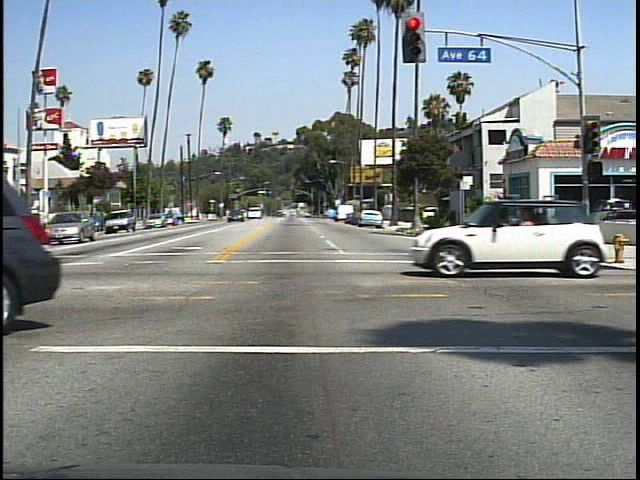person: (521, 195, 548, 248)
